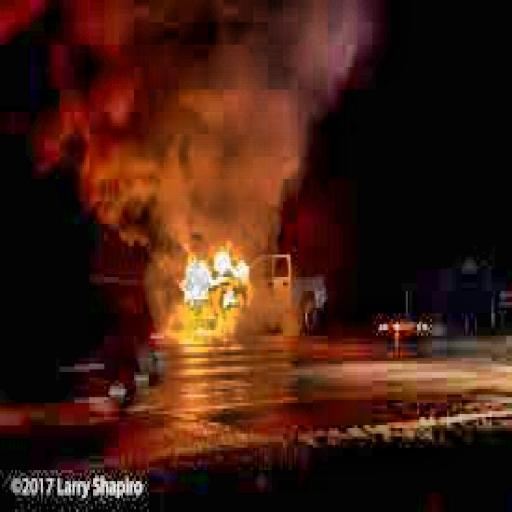fire: (169, 224, 272, 336)
